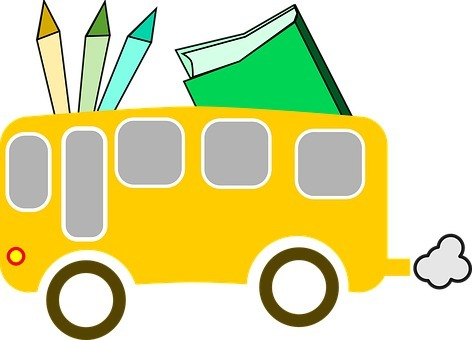bus: (4, 107, 411, 339)
